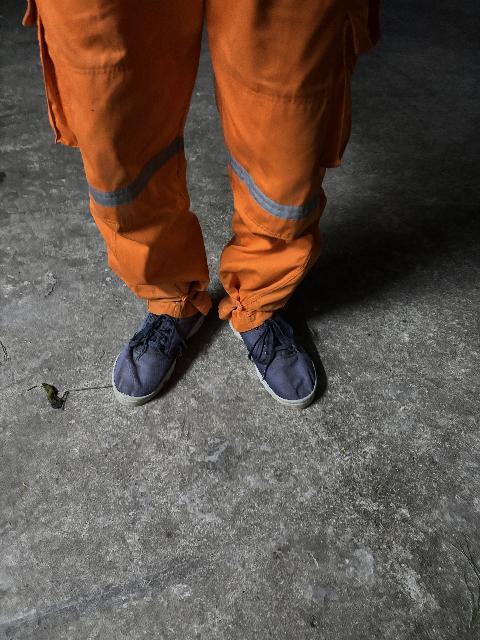shoes: (90, 296, 212, 409), (224, 296, 329, 424)
